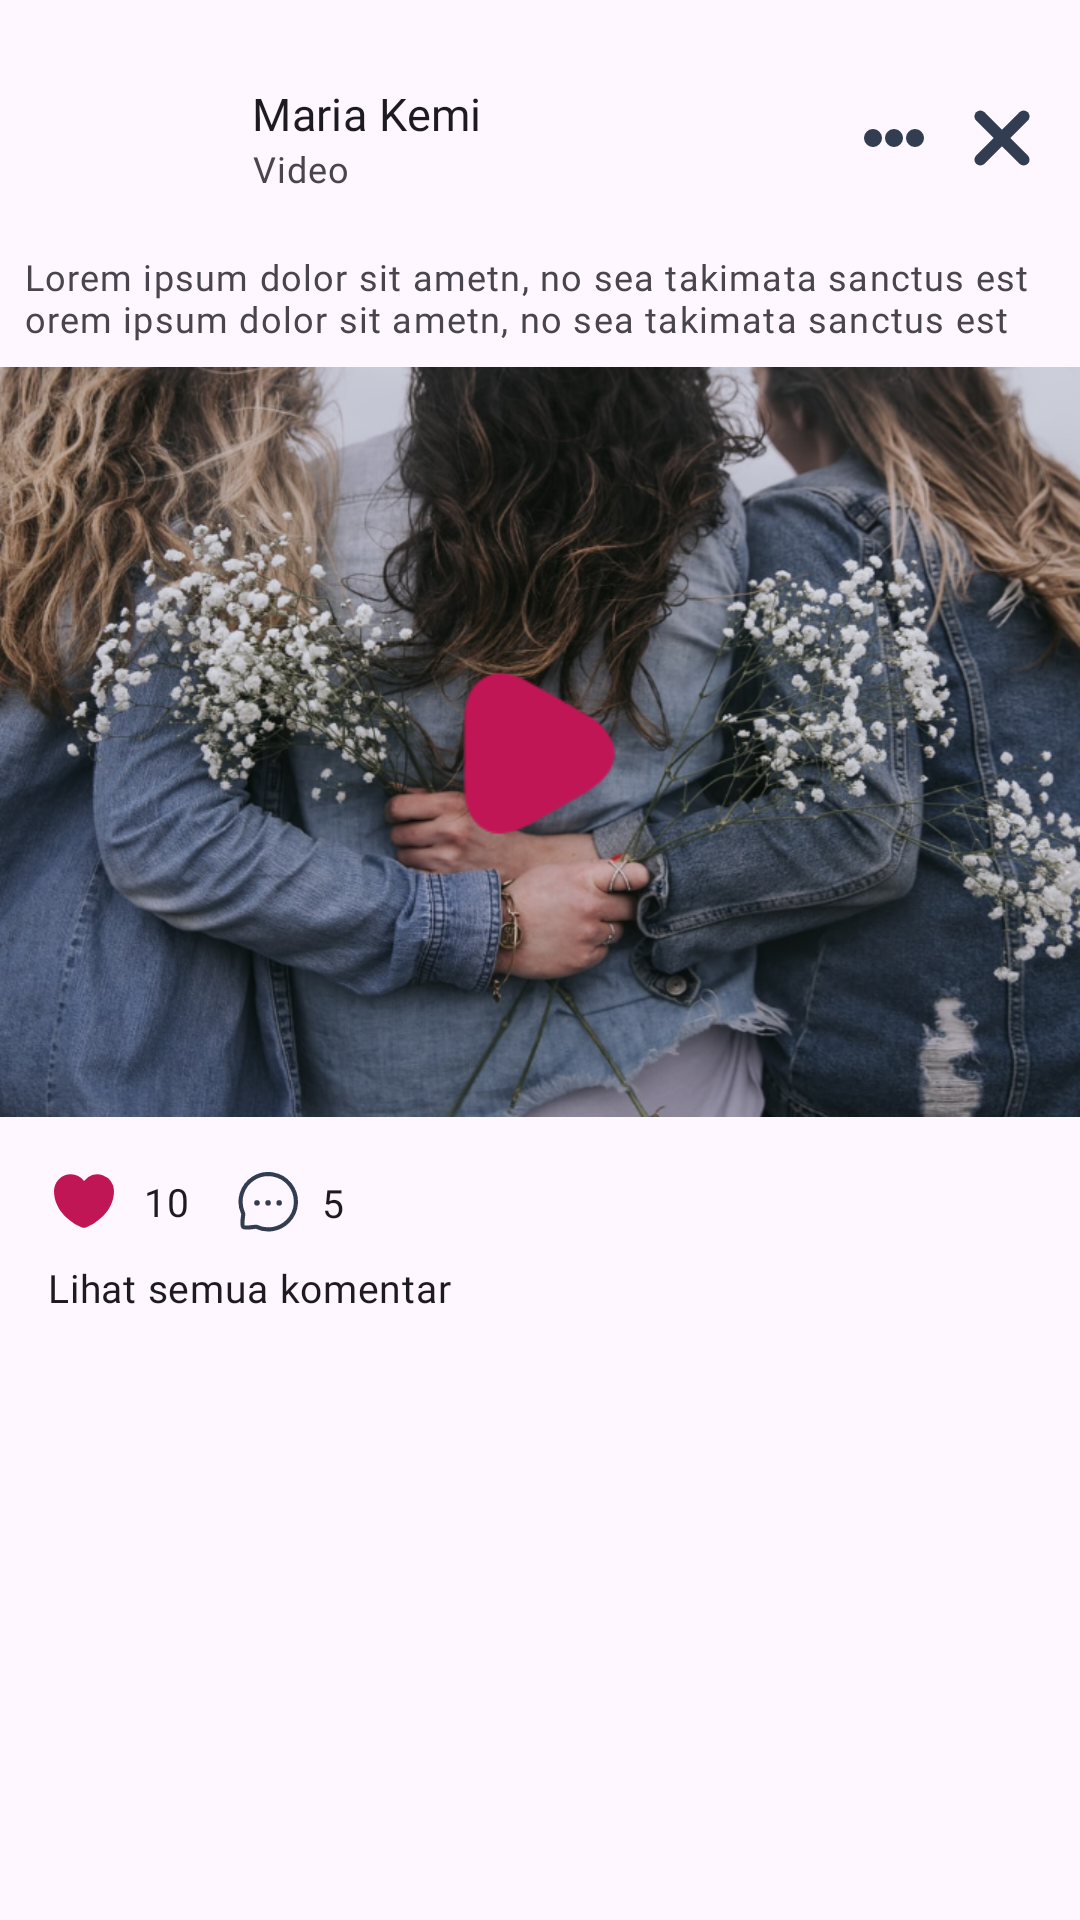

Icon click points for this 1080x1920 phone screenshot, format [x,y]:
cancel: [1002,138]
comment: [268,1202]
love: [84,1201]
more: [894,138]
play video: [539,753]
